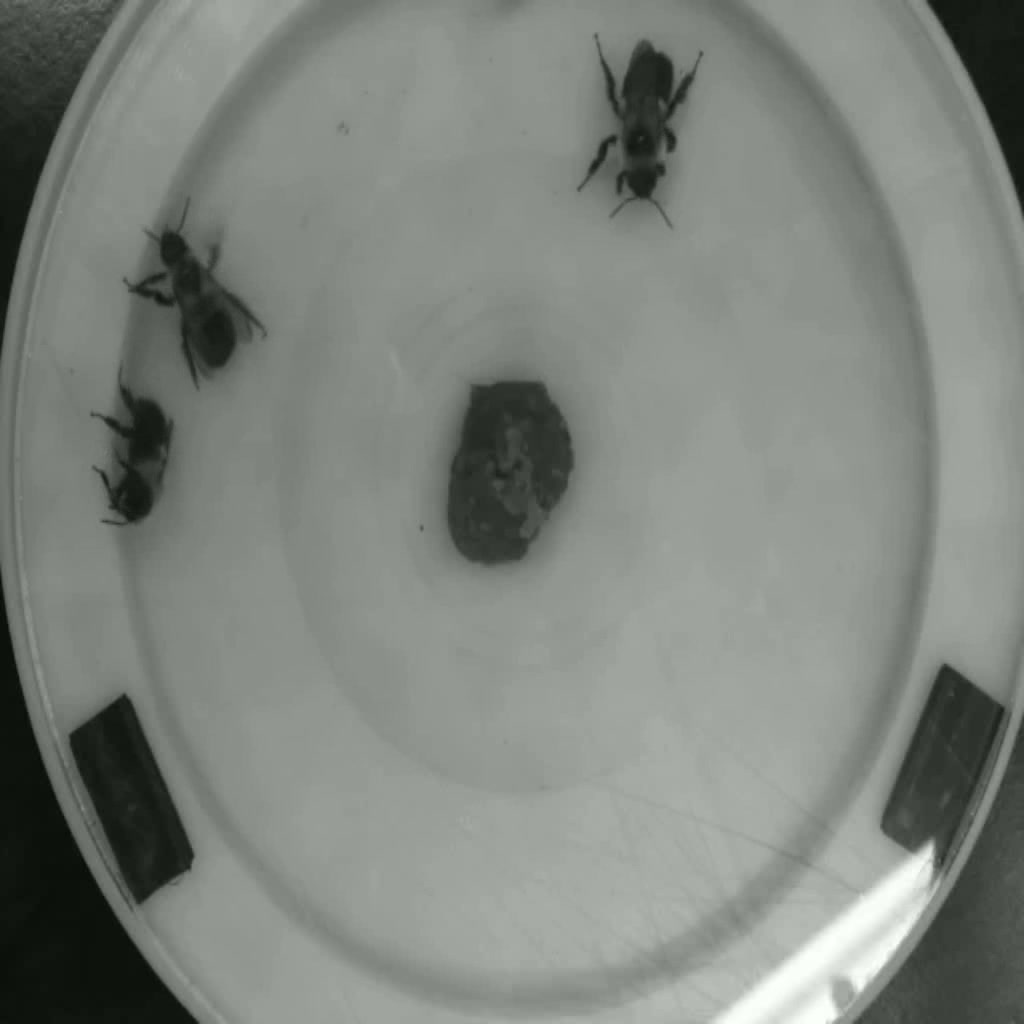bee: (122, 211, 271, 372), (593, 32, 688, 209), (88, 387, 183, 533)
